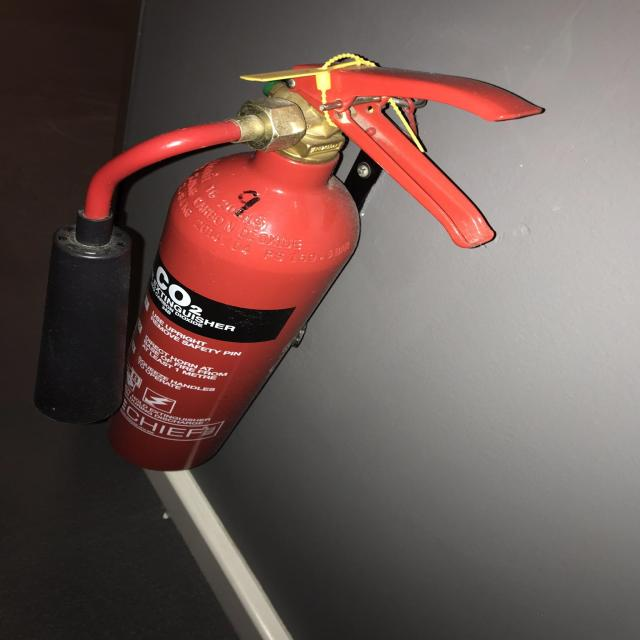fire_extinguisher: (28, 52, 554, 476)
